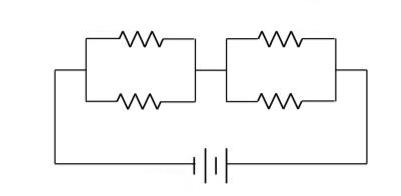resistor: (244, 21, 312, 54), (105, 24, 170, 52), (246, 86, 308, 114), (106, 85, 164, 114)
